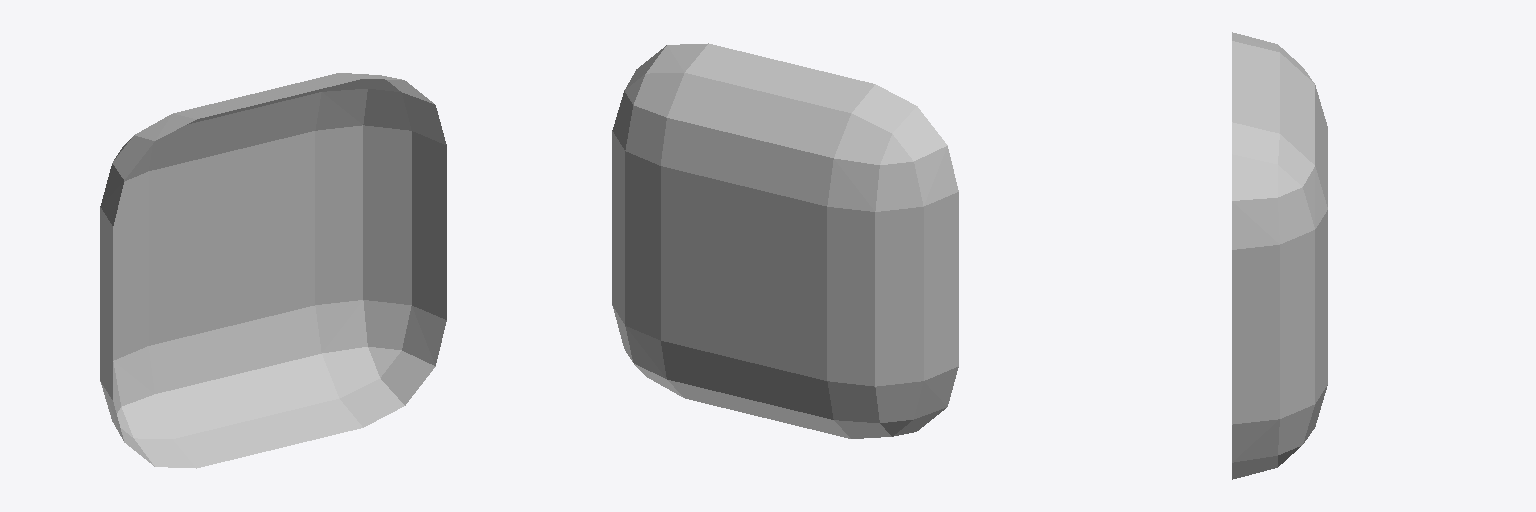
The model's file is tray.obj.
3 renders of one model, left to right at view 1: azimuth 30°, elevation 25°; view 2: azimuth 150°, elevation 25°; view 3: azimuth 270°, elevation 25°, orthographic.
Visible parts, largest first — view 1: Cube; view 2: Cube; view 3: Cube.
Boxes of the visible parts, x1=… form: Cube: x1=100, y1=73, x2=446, y2=468; Cube: x1=612, y1=43, x2=958, y2=438; Cube: x1=1232, y1=32, x2=1327, y2=479.
Size of the model in its own units: 0.08 by 0.08 by 0.02.